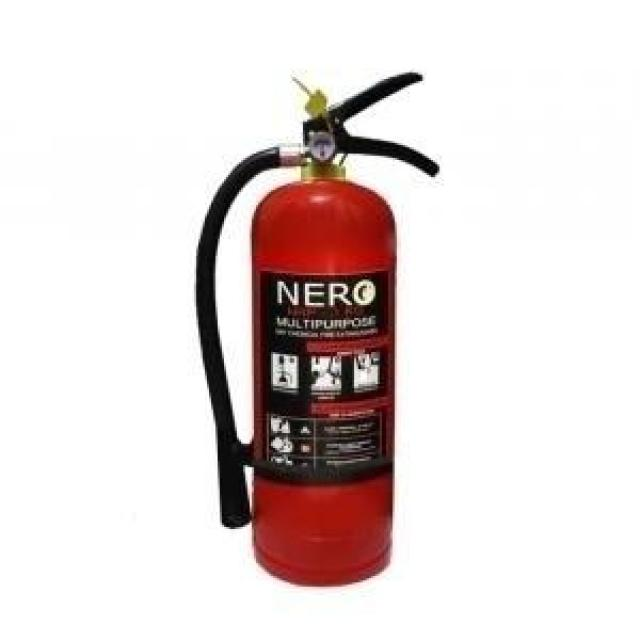fire_extinguisher: (186, 66, 440, 589)
